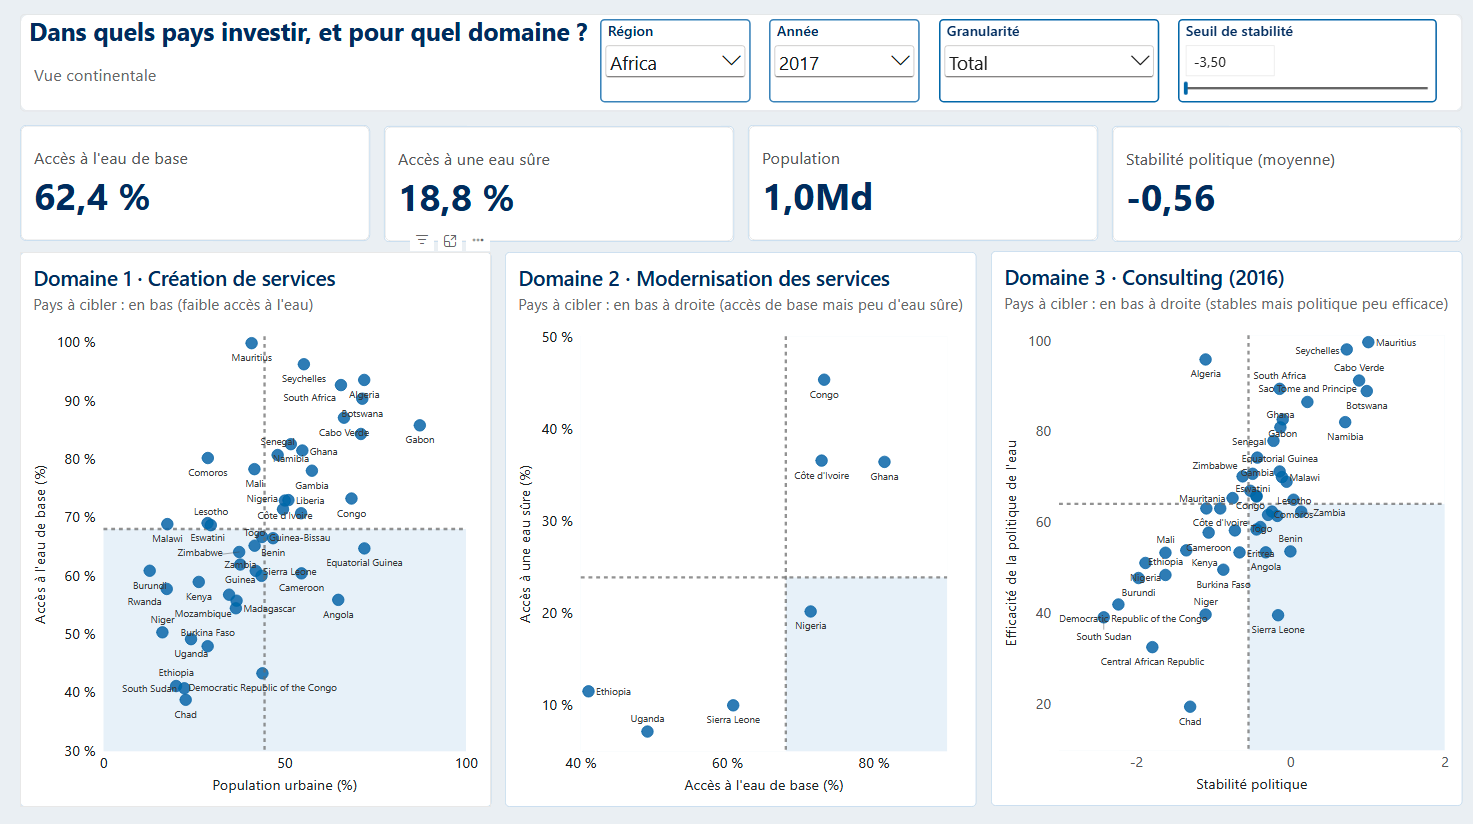

The page's visual inventory and layout, read from the dashboard file:
{"tool":"powerbi","page":{"name":"Région","canvas":[1920,1080],"ordinal":1},"visuals":[{"type":"shape","box":[27.1,27,1866,126],"z":0},{"type":"cardVisual","title":"Accès à l''eau de base","fields":{"Data":["Eau.Acces eau base (%)"]},"box":[27,171,453,150],"z":1000},{"type":"slicer","title":"Année","fields":{"Values":["Annee.Year"]},"box":[996.7,33.3,195,108.3],"z":2000},{"type":"cardVisual","title":"Population","fields":{"Data":["Population.Population totale"]},"box":[969,171,453,150],"z":3000},{"type":"slicer","fields":{"Values":["Seuil stabilite.Seuil stabilite"]},"box":[1525,33.3,335,108.3],"z":4000},{"type":"cardVisual","title":"Stabilité politique( moyenne)","fields":{"Data":["Stabilite.Stabilite moyenne"]},"box":[1440,171.7,453,150],"z":5000},{"type":"cardVisual","title":"Accès à une eau sûre","fields":{"Data":["Eau.Acces eau sure (%)"]},"box":[498,171.7,453,150],"z":7000},{"type":"slicer","title":"Granularité","fields":{"Values":["Eau.Granularity"]},"box":[1216.7,33.3,285,108.3],"z":8000},{"type":"scatterChart","title":"Domaine 1 · Création de services","fields":{"Category":["Pays.Country"],"X":["Population.Part urbaine (%)"],"Y":["Eau.Acces eau base (%)"]},"box":[27,335,610,718],"z":9000},{"type":"textbox","box":[38.2,27,728.8,98.8],"z":10000},{"type":"scatterChart","title":"Domaine 3 · Consulting (2016)","fields":{"Category":["Pays.Country"],"X":["Stabilite.Stabilite 2016"],"Y":["Eau.Efficacite 2016"]},"box":[1283,334.4,610,718],"z":11000},{"type":"textbox","box":[45,90,678.3,51.7],"z":12000},{"type":"scatterChart","title":"Domaine 2 · Modernisation des services","fields":{"Category":["Pays.Country"],"X":["Eau.Acces eau base (%)"],"Y":["Eau.Acces eau sure (%)"]},"box":[655.2,335,610,718],"z":13000},{"type":"slicer","title":"Région","fields":{"Values":["Pays.Region"]},"box":[777.5,33.8,195,108.3],"z":14000}]}

Visuals, with their boxes in screenshot pixels (x1, y1, x2, y2), scaled from the page's 1920x1080 canvas onto the 1473x824 screenshot:
shape: <box>21,21,1452,117</box>
"Accès à l''eau de base" cardVisual: <box>21,130,368,245</box>
"Année" slicer: <box>765,25,914,108</box>
"Population" cardVisual: <box>743,130,1091,245</box>
slicer - Seuil stabilite.Seuil stabilite: <box>1170,25,1427,108</box>
"Stabilité politique( moyenne)" cardVisual: <box>1105,131,1452,245</box>
"Accès à une eau sûre" cardVisual: <box>382,131,730,245</box>
"Granularité" slicer: <box>933,25,1152,108</box>
"Domaine 1 · Création de services" scatterChart: <box>21,256,489,803</box>
textbox: <box>29,21,588,96</box>
"Domaine 3 · Consulting (2016)" scatterChart: <box>984,255,1452,803</box>
textbox: <box>35,69,555,108</box>
"Domaine 2 · Modernisation des services" scatterChart: <box>503,256,971,803</box>
"Région" slicer: <box>596,26,746,108</box>
